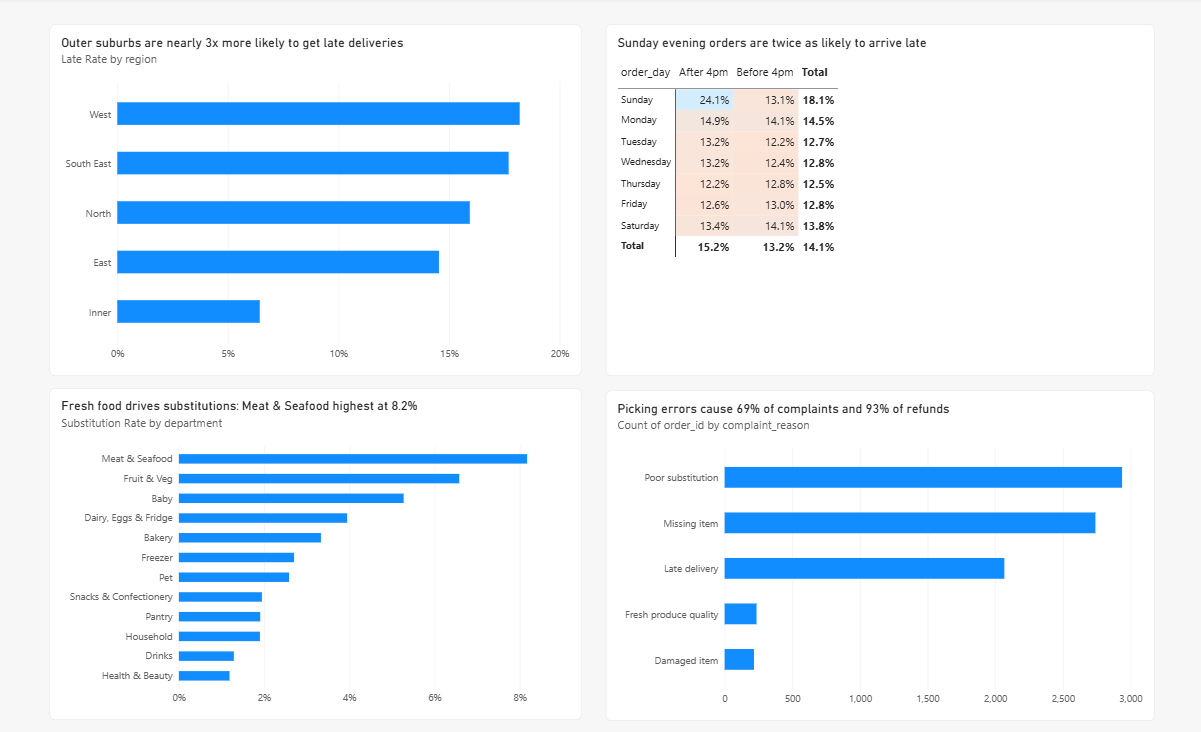

What the dashboard file says about the page in this screenshot:
{"tool":"powerbi","page":{"name":"Operations","canvas":[1920,1080],"ordinal":2},"visuals":[{"type":"clusteredBarChart","title":"Outer suburbs are nearly 3x more likely to get late deliveries","fields":{"Category":["vw_orders.region"],"Y":["vw_orders.Late Rate"]},"box":[140,38,760,502],"z":0},{"type":"pivotTable","title":"Sunday evening orders are twice as likely to arrive late","fields":{"Columns":["vw_orders.Time of Day"],"Rows":["vw_orders.order_day"],"Values":["vw_orders.Late Rate"]},"box":[934,38,784,502],"z":1},{"type":"clusteredBarChart","title":"Fresh food drives substitutions: Meat & Seafood highest at 8.2%","fields":{"Category":["vw_order_lines.department"],"Y":["vw_order_lines.Substitution Rate"]},"box":[140,558,760,474],"z":2},{"type":"clusteredBarChart","title":"Picking errors cause 69% of complaints and 93% of refunds","fields":{"Category":["vw_orders.complaint_reason"],"Y":["CountNonNull(vw_orders.order_id)"]},"box":[934,560,784,472],"z":3}]}

Visuals, with their boxes on the page's 1920x1080 design canvas (x1, y1, x2, y2). These are canvas units, not pixel positions in the 1201x732 screenshot, which may show the page scaled, cropped or inside an application window:
"Outer suburbs are nearly 3x more likely to get late deliveries" clusteredBarChart: pyautogui.locateOnScreen(140, 38, 900, 540)
"Sunday evening orders are twice as likely to arrive late" pivotTable: pyautogui.locateOnScreen(934, 38, 1718, 540)
"Fresh food drives substitutions: Meat & Seafood highest at 8.2%" clusteredBarChart: pyautogui.locateOnScreen(140, 558, 900, 1032)
"Picking errors cause 69% of complaints and 93% of refunds" clusteredBarChart: pyautogui.locateOnScreen(934, 560, 1718, 1032)
